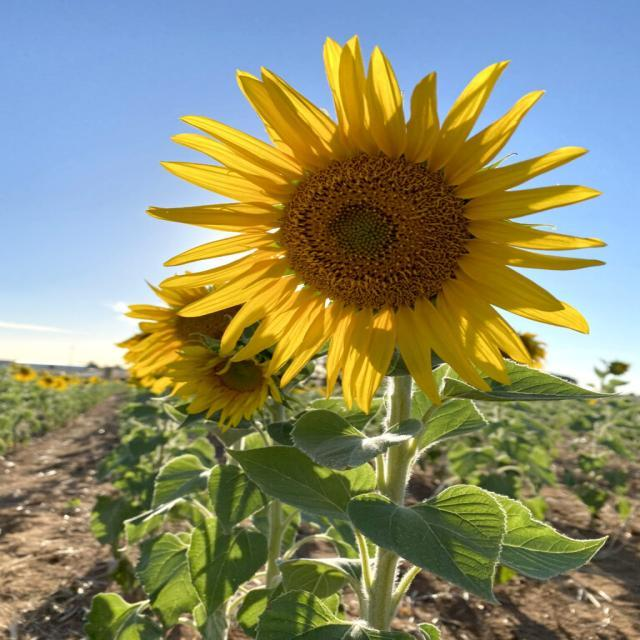sunflower: (144, 34, 608, 414), (116, 270, 247, 400), (165, 345, 282, 433), (500, 333, 546, 368), (148, 375, 172, 395), (11, 366, 36, 382), (37, 374, 55, 388), (53, 376, 67, 391), (61, 376, 73, 383)
